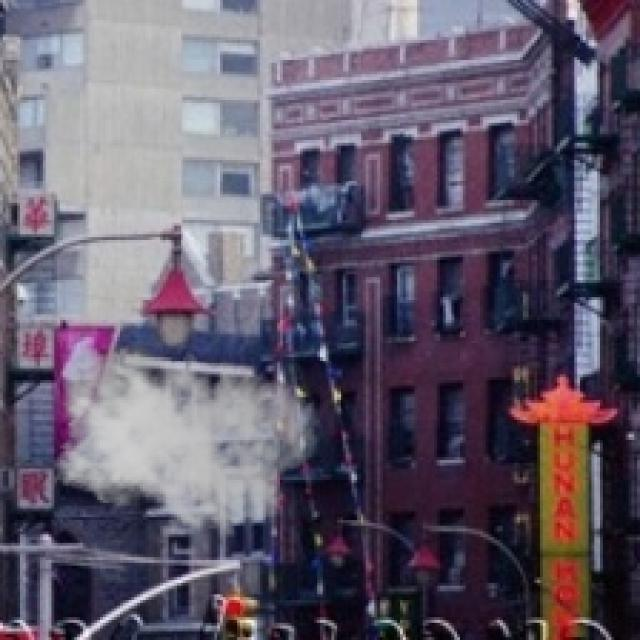smoke: (46, 337, 320, 537)
